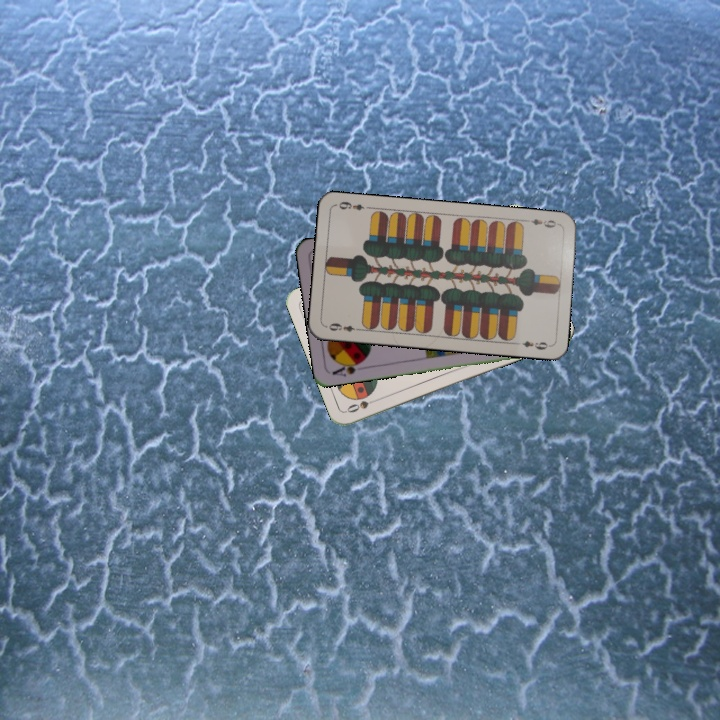E9: (521, 214, 562, 230), (323, 319, 363, 334)
SA: (328, 356, 367, 379)
SO: (343, 394, 382, 415)
